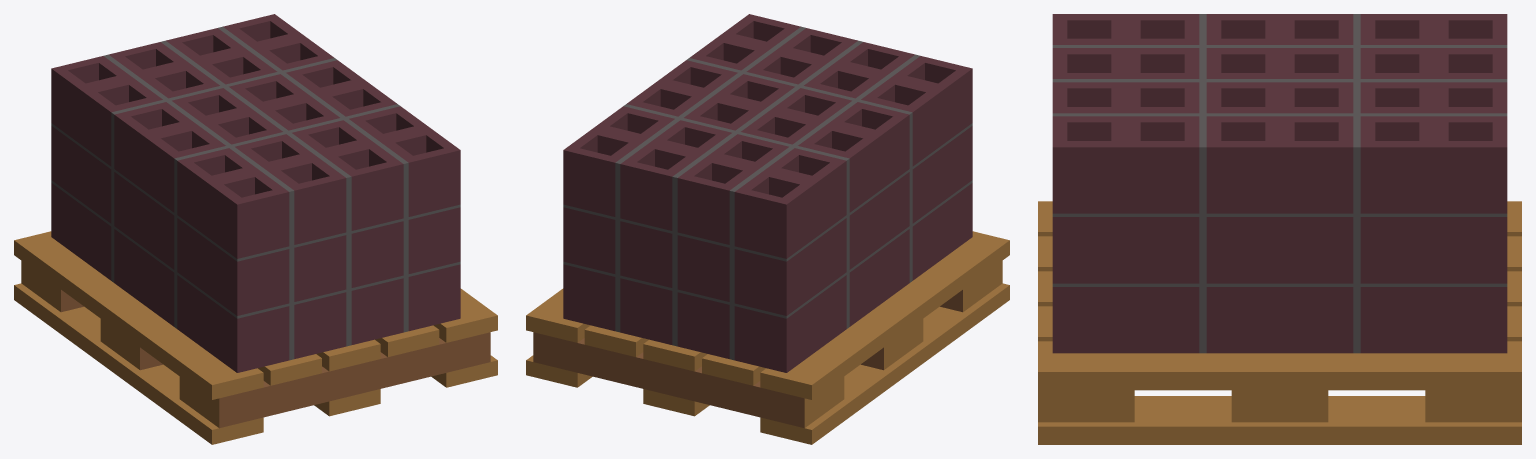
File: brick-concrete-stack.fbx
The picture shows the model from 3 angles, left to right: view 1: azimuth 30°, elevation 25°; view 2: azimuth 150°, elevation 25°; view 3: azimuth 270°, elevation 25°; orthographic projection. The views are drawn at different scales.
Visible parts, largest first — view 1: brick-concrete-stack; view 2: brick-concrete-stack; view 3: brick-concrete-stack.
Boxes of the visible parts, x1,y1,x2,y2 form: brick-concrete-stack: (14, 14, 497, 444); brick-concrete-stack: (526, 14, 1009, 444); brick-concrete-stack: (1038, 14, 1521, 444).
Bounding box in the file's own units: 1.1 × 0.84 × 1.32.
